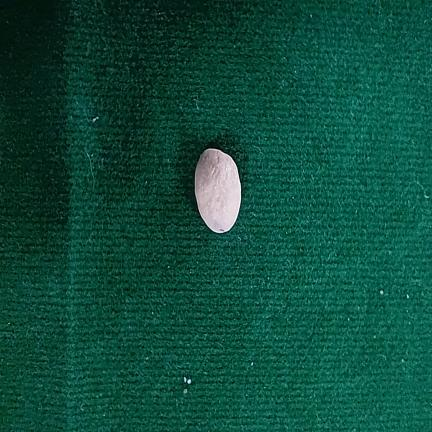immature: (195, 148, 241, 233)
